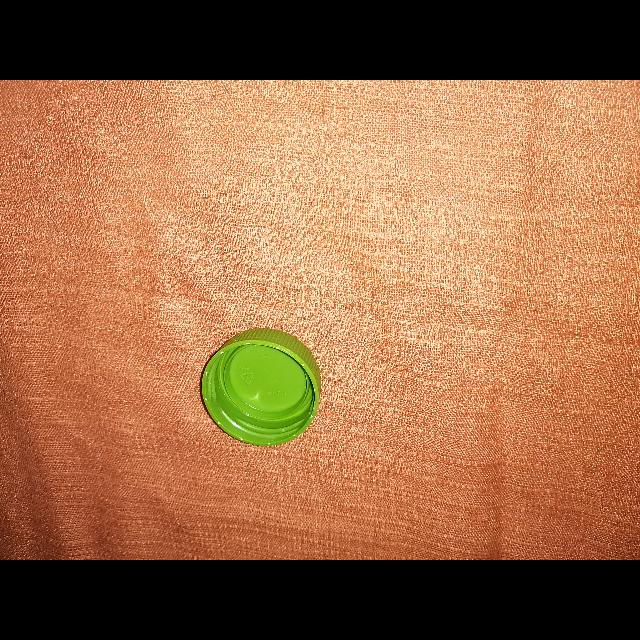plastic_bottle_cap: (202, 328, 322, 447)
